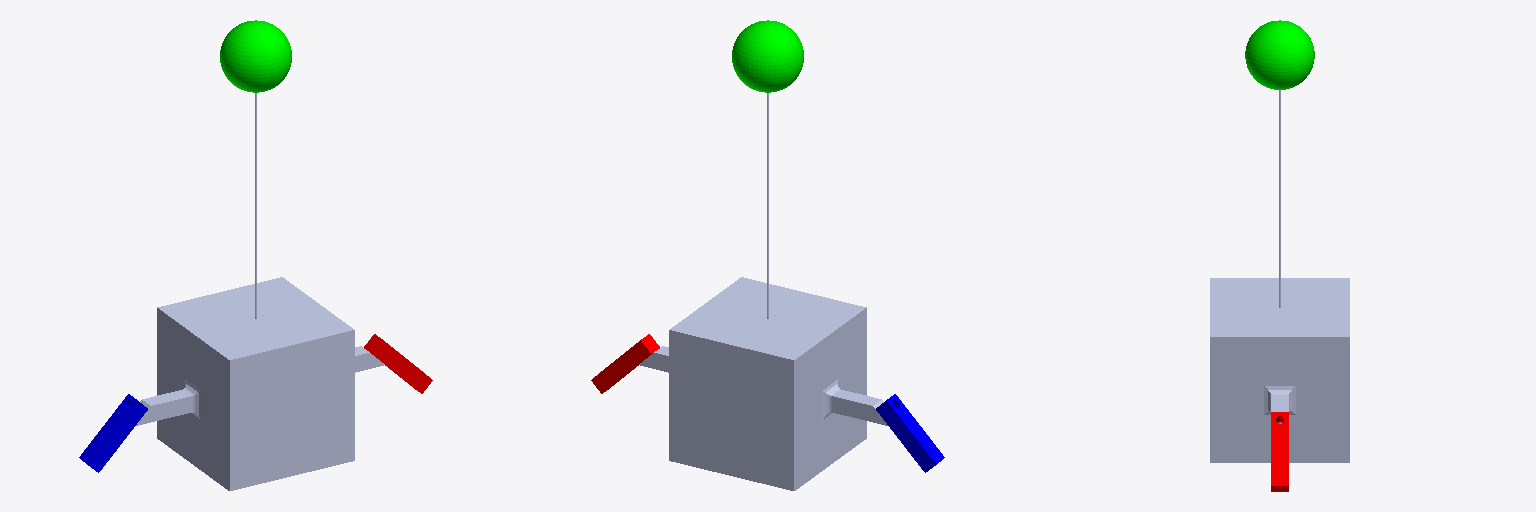
URDF robot description (BoxAssm):
<robot
  name="BoxAssm">
  <link name="world"/>
  <joint name="base_to_world_fixed" type="fixed">
    <parent link="world"/>
    <child link="base_link"/>
    <origin xyz="0 0 0" rpy="0 0 0" />
  </joint>
  
  
  <link
    name="base_link">
    <inertial>
      <origin
        xyz="0 0 0"
        rpy="0 0 0" />
      <mass
        value="0.0085802" />
      <inertia
        ixx="5.5356E-07"
        ixy="0"
        ixz="0"
        iyy="5.5356E-07"
        iyz="0"
        izz="5.5356E-07" />
    </inertial>
    <visual>
      <origin
        xyz="0 0 0"
        rpy="0 0 0" />
      <geometry>
        <mesh
          filename="meshes/base_link.STL" />
      </geometry>
      <material
        name="">
        <color
          rgba="0 1 0 .01" />
      </material>
    </visual>
    <collision>
      <origin
        xyz="0 0 0"
        rpy="0 0 0" />
      <geometry>
        <mesh
          filename="meshes/base_link.STL" />
      </geometry>
    </collision>
  </link>
  
  
  <link name="string_balljoint_x_link">
   <inertial>
     <origin xyz="0 0 0" rpy="0 0 0"/>
     <mass value="0"/>
     <inertia ixx="0"  ixy="0"  ixz="0" iyy="0" iyz="0" izz="0" />
   </inertial>
   <visual>
     <origin xyz="0 0 0" rpy="0 0 0" />
     <geometry>
       <sphere radius=".005" />
     </geometry>
     <material name="Cyan">
       <color rgba="0 1.0 1.0 1.0"/>
     </material>
   </visual>
   <collision>
      <origin
        xyz="0 0 0"
        rpy="0 0 0" />
      <geometry>
       <sphere radius=".005" />
     </geometry>
    </collision>
  </link>
  <joint
    name="string_balljoint_x"
    type="continuous">
    <origin
      xyz="0 0 0"
      rpy="0 0 0" />
    <parent
      link="base_link" />
    <child
      link="string_balljoint_x_link" />
    <axis
      xyz="1 0 0" />
  </joint>
 
 
  <link
    name="string_link">
    <inertial>
      <origin
        xyz="0 -0.0508 0"
        rpy="0 0 0" />
      <mass
        value="5.0144E-05" />
      <inertia
        ixx="4.2913E-08"
        ixy="0"
        ixz="0"
        iyy="3.945E-12"
        iyz="0"
        izz="4.2913E-08" />
    </inertial>
    <visual>
      <origin
        xyz="0 0 0"
        rpy="0 0 0" />
      <geometry>
        <mesh
          filename="meshes/string_link.STL" />
      </geometry>
      <material
        name="">
        <color
          rgba="0.79216 0.81961 0.93333 1" />
      </material>
    </visual>
    <collision>
      <origin
        xyz="0 0 0"
        rpy="0 0 0" />
      <geometry>
        <mesh
          filename="meshes/string_link.STL" />
      </geometry>
    </collision>
  </link>
  <joint
    name="string_joint_y"
    type="continuous">
    <origin
      xyz="0 0 0"
      rpy="1.5708 0 0" />
    <parent
      link="string_balljoint_x_link" />
    <child
      link="string_link" />
    <axis
      xyz="0 0 1" />
  </joint>
  
  
  <link
    name="body_link">
    <inertial>
      <origin
        xyz="0 -0.025401 0"
        rpy="0 0 0" />
      <mass
        value="0.1329" />
      <inertia
        ixx="5.6399E-05"
        ixy="0"
        ixz="0"
        iyy="5.8774E-05"
        iyz="0"
        izz="5.8774E-05" />
    </inertial>
    <visual>
      <origin
        xyz="0 0 0"
        rpy="0 0 0" />
      <geometry>
        <mesh
          filename="meshes/body_link.STL" />
      </geometry>
      <material
        name="">
        <color
          rgba="0.79216 0.81961 0.93333 1" />
      </material>
    </visual>
    <collision>
      <origin
        xyz="0 0 0"
        rpy="0 0 0" />
      <geometry>
        <mesh
          filename="meshes/body_link.STL" />
      </geometry>
    </collision>
  </link>
  <joint
    name="anchor"
    type="continuous">
    <origin
      xyz="0 -0.1016 0"
      rpy="0 0 0" />
    <parent
      link="string_link" />
    <child
      link="body_link" />
    <axis
      xyz="0 1 0" />
  </joint>
  
  
  <link
    name="leg_left_link">
    <inertial>
      <origin
        xyz="-0.011619 0 0"
        rpy="0 0 0" />
      <mass
        value="0.0011019" />
      <inertia
        ixx="7.5428E-09"
        ixy="0"
        ixz="0"
        iyy="7.5718E-08"
        iyz="0"
        izz="7.5581E-08" />
    </inertial>
    <visual>
      <origin
        xyz="0 0 0"
        rpy="0 0 0" />
      <geometry>
        <mesh
          filename="meshes/leg_left_link.STL" />
      </geometry>
      <material
        name="">
        <color
          rgba="0 0 1 1" />
      </material>
    </visual>
    <collision>
      <origin
        xyz="0 0 0"
        rpy="0 0 0" />
      <geometry>
        <mesh
          filename="meshes/leg_left_link.STL" />
      </geometry>
    </collision>
  </link>
  <joint
    name="leg_left"
    type="revolute">
    <origin
      xyz="-0.04987 -0.023155 0"
      rpy="0 0 0.7854" />
    <parent
      link="body_link" />
    <child
      link="leg_left_link" />
    <axis
      xyz="0 -1 0" />
	<dynamics 
	  damping="1.0E-05" />
    <limit
      effort="0"
      velocity="0" />
  </joint>
  
  <link
    name="leg_right_link">
    <inertial>
      <origin
        xyz="-0.011619 0 0"
        rpy="0 0 0" />
      <mass
        value="0.0011019" />
      <inertia
        ixx="7.5428E-09"
        ixy="0"
        ixz="0"
        iyy="7.5718E-08"
        iyz="0"
        izz="7.5581E-08" />
    </inertial>
    <visual>
      <origin
        xyz="0 0 0"
        rpy="0 0 0" />
      <geometry>
        <mesh
          filename="meshes/leg_right_link.STL" />
      </geometry>
      <material
        name="">
        <color
          rgba="1 0 0 1" />
      </material>
    </visual>
    <collision>
      <origin
        xyz="0 0 0"
        rpy="0 0 0" />
      <geometry>
        <mesh
          filename="meshes/leg_right_link.STL" />
      </geometry>
    </collision>
  </link>
  <joint
    name="leg_right"
    type="revolute">
    <origin
      xyz="0.04987 -0.023155 0"
      rpy="0 0 2.3562" />
    <parent
      link="body_link" />
    <child
      link="leg_right_link" />
    <axis
      xyz="0 -1 0" />
	<dynamics 
	  damping="1.0E-05" />
    <limit
      effort="0"
      velocity="0" />
  </joint>
</robot>

--- Facts derived from the render (not from the file) ---
3 views of the same robot in one strip: view 1: azimuth 30°, elevation 25°; view 2: azimuth 150°, elevation 25°; view 3: azimuth 270°, elevation 25° (orthographic).
Robot: BoxAssm — 7 links, 6 joints (2 revolute, 3 continuous, 1 fixed); root link world; default pose: every joint at zero.
Visible links, largest first — view 1: body_link, base_link, leg_left_link, leg_right_link; view 2: body_link, base_link, leg_left_link, leg_right_link; view 3: body_link, base_link, leg_right_link.
Boxes of the visible links, box(x1,y1,x2,y2) form: body_link: box(136, 277, 384, 490); base_link: box(220, 20, 291, 92); leg_left_link: box(79, 394, 147, 472); leg_right_link: box(364, 334, 432, 393); body_link: box(639, 277, 887, 490); base_link: box(732, 20, 803, 92); leg_left_link: box(876, 394, 944, 472); leg_right_link: box(591, 334, 659, 393); body_link: box(1210, 278, 1349, 462); base_link: box(1245, 20, 1314, 89); leg_right_link: box(1271, 412, 1288, 491).
Bounding box of the posed robot: 0.1402 × 0.0508 × 0.1651 m (x, y, z).
Meshes: 5 distinct files referenced, 5 mesh visuals loaded (5 binary STL).